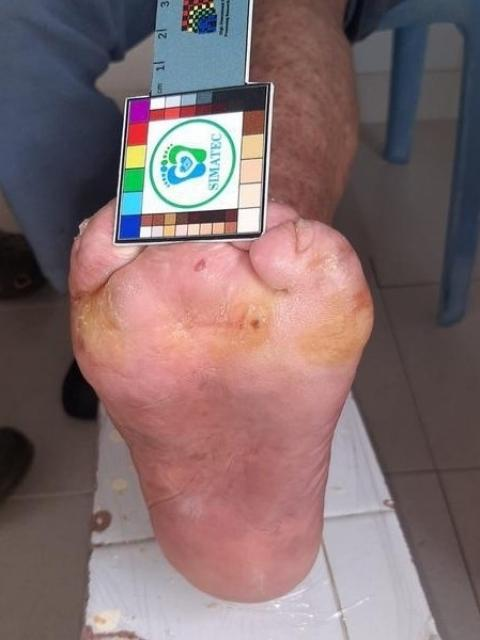wound: (247, 312, 264, 338), (189, 259, 209, 273)
